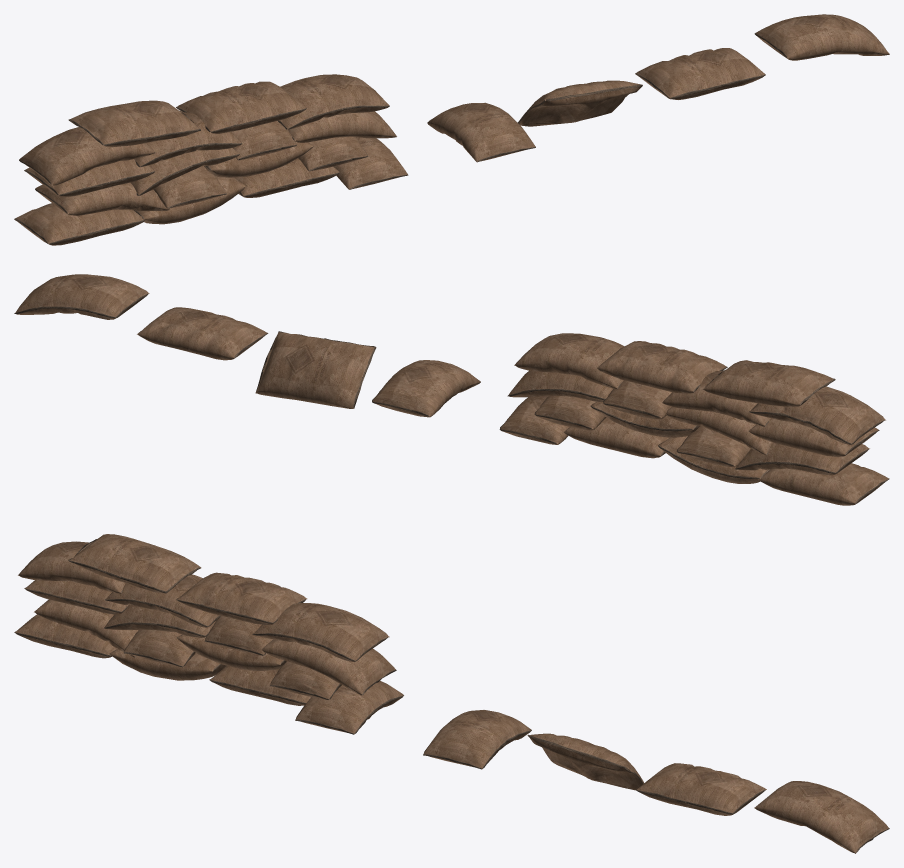
The model's file is sandbag_wall.glb.
3 renders of one model, top to bottom at view 1: azimuth 30°, elevation 25°; view 2: azimuth 150°, elevation 25°; view 3: azimuth 330°, elevation 25°, orthographic.
Visible parts, largest first — view 1: Cube_17, Cube_16, Cube_11, Cube_44, Cube_14, Cube_12, Cube_8, Cube_15, Cube_45, Cube_23, Cube_6, Cube_9 (+9 smaller); view 2: Cube_15, Cube_16, Cube_17, Cube_11, Cube_44, Cube_14, Cube_12, Cube_8, Cube_45, Cube_23, Cube_9, Cube_6 (+9 smaller); view 3: Cube_17, Cube_44, Cube_8, Cube_16, Cube_11, Cube_14, Cube_15, Cube_6, Cube_13, Cube_12, Cube_10, Cube_45 (+9 smaller).
Boxes of the visible parts, x1,y1,x2,y2 form: Cube_17: [754, 14, 889, 60]; Cube_16: [635, 48, 765, 99]; Cube_11: [176, 81, 306, 133]; Cube_44: [68, 100, 200, 147]; Cube_14: [427, 102, 535, 162]; Cube_12: [19, 127, 155, 185]; Cube_8: [278, 74, 389, 129]; Cube_15: [517, 80, 642, 126]; Cube_45: [14, 203, 144, 245]; Cube_23: [35, 182, 169, 215]; Cube_6: [288, 111, 396, 142]; Cube_9: [24, 159, 154, 196]; Cube_15: [255, 331, 376, 408]; Cube_16: [137, 307, 268, 360]; Cube_17: [14, 274, 149, 319]; Cube_11: [596, 341, 727, 393]; Cube_44: [702, 360, 835, 407]; Cube_14: [372, 360, 480, 417]; Cube_12: [749, 386, 885, 444]; Cube_8: [514, 333, 624, 389]; Cube_45: [758, 463, 889, 505]; Cube_23: [734, 442, 869, 475]; Cube_9: [748, 418, 879, 457]; Cube_6: [507, 370, 612, 401]; Cube_17: [754, 781, 889, 853]; Cube_44: [68, 534, 201, 593]; Cube_8: [252, 603, 389, 661]; Cube_16: [636, 763, 766, 815]; Cube_11: [176, 572, 307, 624]; Cube_14: [423, 710, 531, 769]; Cube_15: [527, 733, 643, 790]; Cube_6: [261, 639, 396, 695]; Cube_13: [295, 681, 403, 734]; Cube_12: [18, 541, 125, 593]; Cube_10: [105, 574, 220, 627]; Cube_45: [14, 614, 117, 658].
Bounding box in the file's own units: 8 × 1.24 × 0.8341.
1 material, 1 textured.
